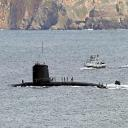submarine: (9, 64, 123, 89)
